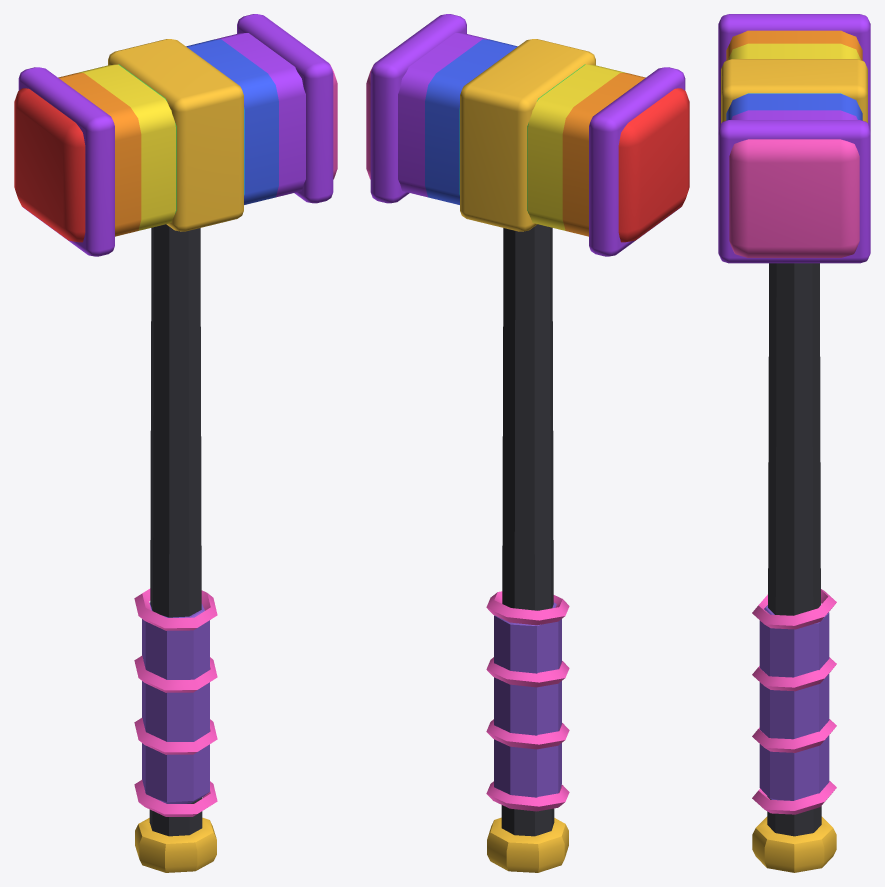
Rendered from RainbowHammer.fbx.
3 views of the same model, side by side, from view 1: azimuth 30°, elevation 25°; view 2: azimuth 150°, elevation 25°; view 3: azimuth 270°, elevation 25° (orthographic).
Visible parts, largest first — view 1: RainbowHammer; view 2: RainbowHammer; view 3: RainbowHammer.
Boxes of the visible parts, x1,y1,x2,y2 form: RainbowHammer: (14,14,337,872); RainbowHammer: (366,14,689,872); RainbowHammer: (718,14,870,872).
Size of the model in its own units: 1.15 by 3.2 by 0.56.
1 material, 1 textured.
